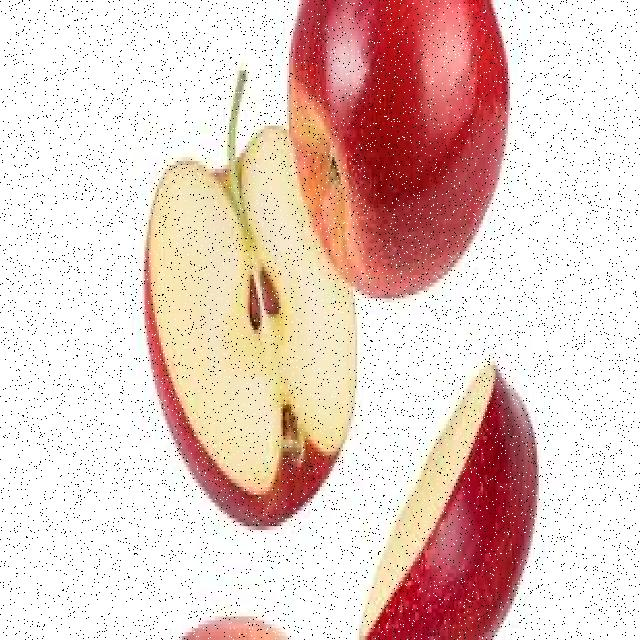Apple: (142, 124, 358, 526), (283, 0, 510, 302), (359, 361, 539, 640), (175, 597, 290, 640)
